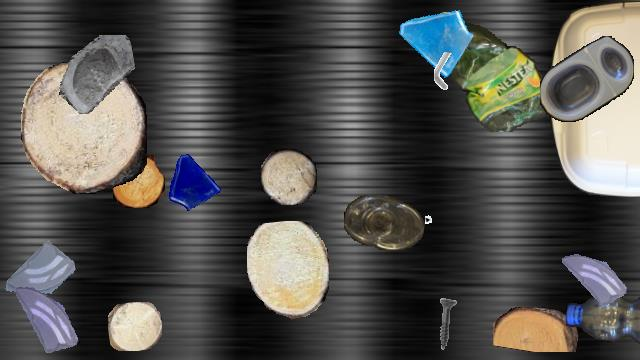glass: (395, 1, 473, 79), (57, 35, 135, 113), (8, 285, 82, 359), (3, 238, 75, 310), (562, 248, 626, 312), (163, 151, 223, 211)
metal: (418, 297, 474, 353), (424, 52, 464, 92), (425, 206, 463, 244)
plastic: (550, 1, 640, 197), (420, 12, 550, 132), (540, 36, 634, 122), (344, 195, 424, 249), (566, 292, 640, 346)
wood: (21, 61, 147, 193), (247, 221, 329, 319), (493, 307, 579, 351), (261, 149, 317, 205), (112, 155, 164, 207), (108, 302, 162, 350)
